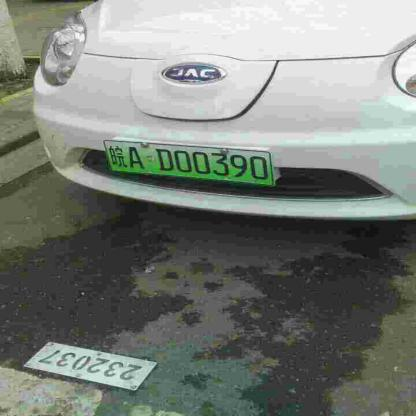lp: (102, 139, 273, 185)
